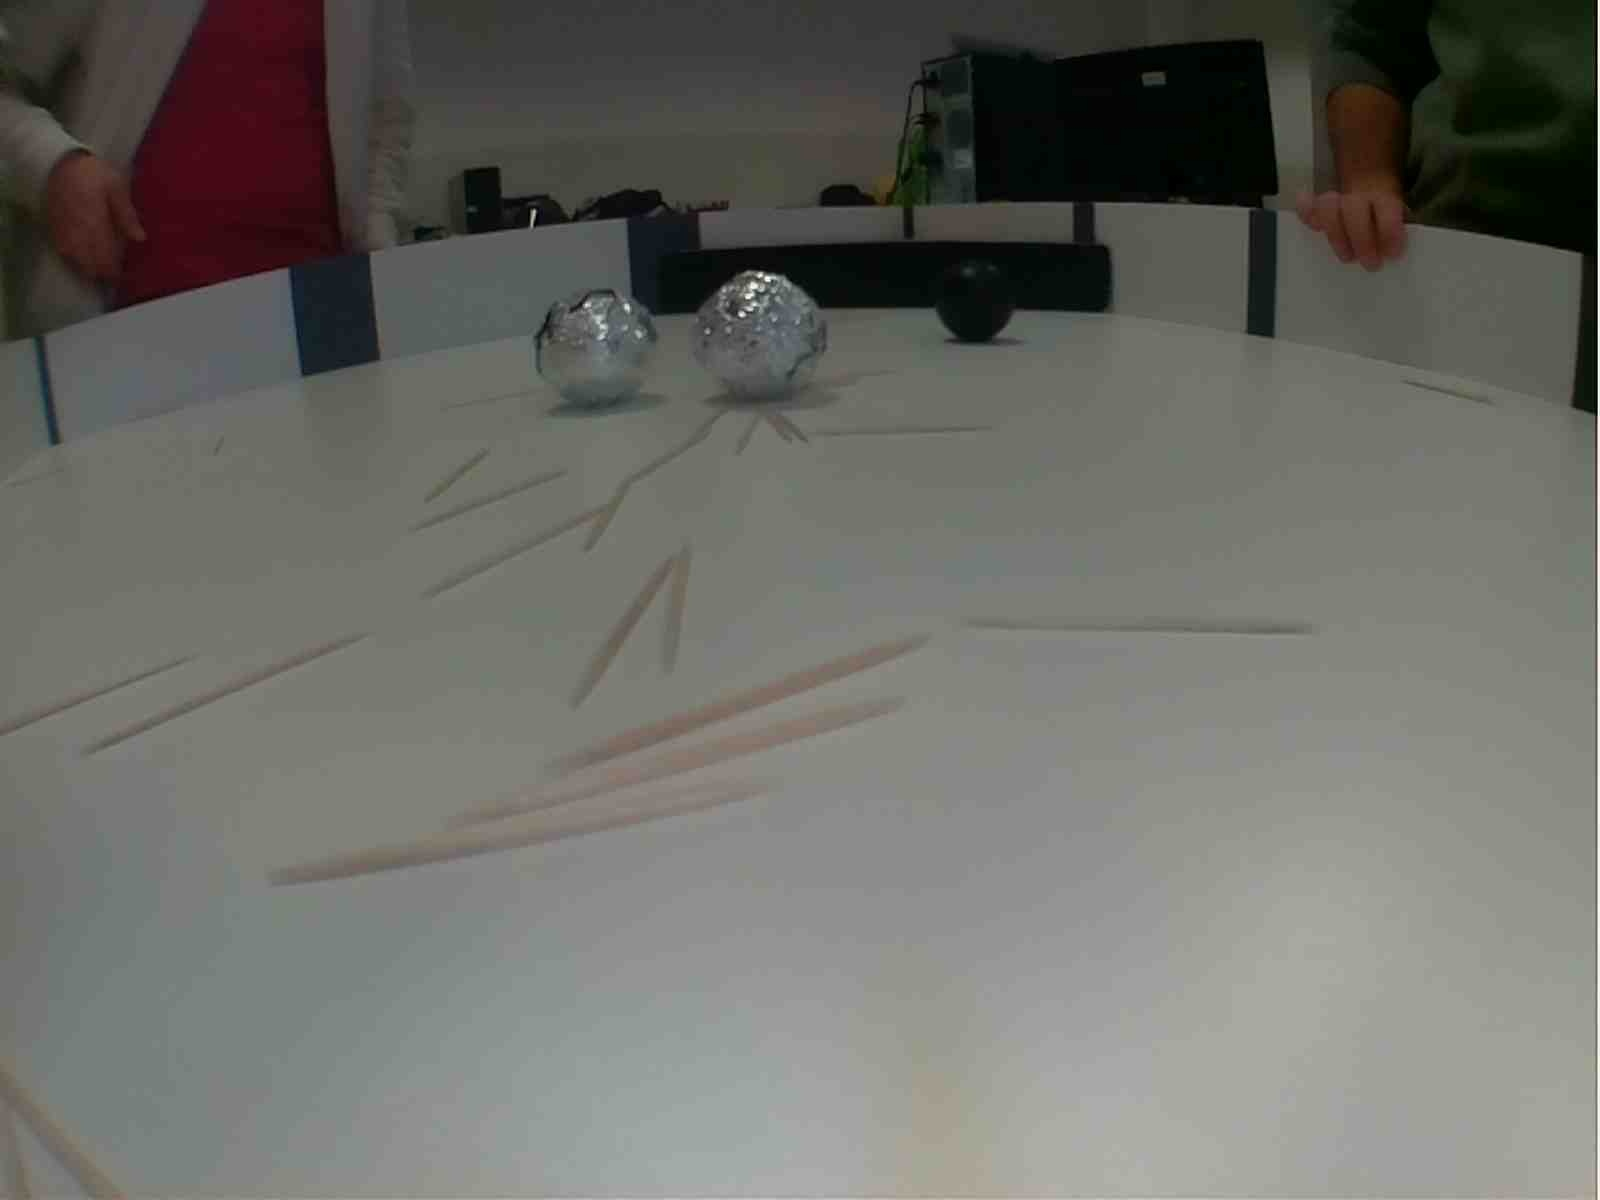bianca: (690, 274, 826, 407), (532, 282, 664, 408)
nera: (927, 257, 1018, 350)
